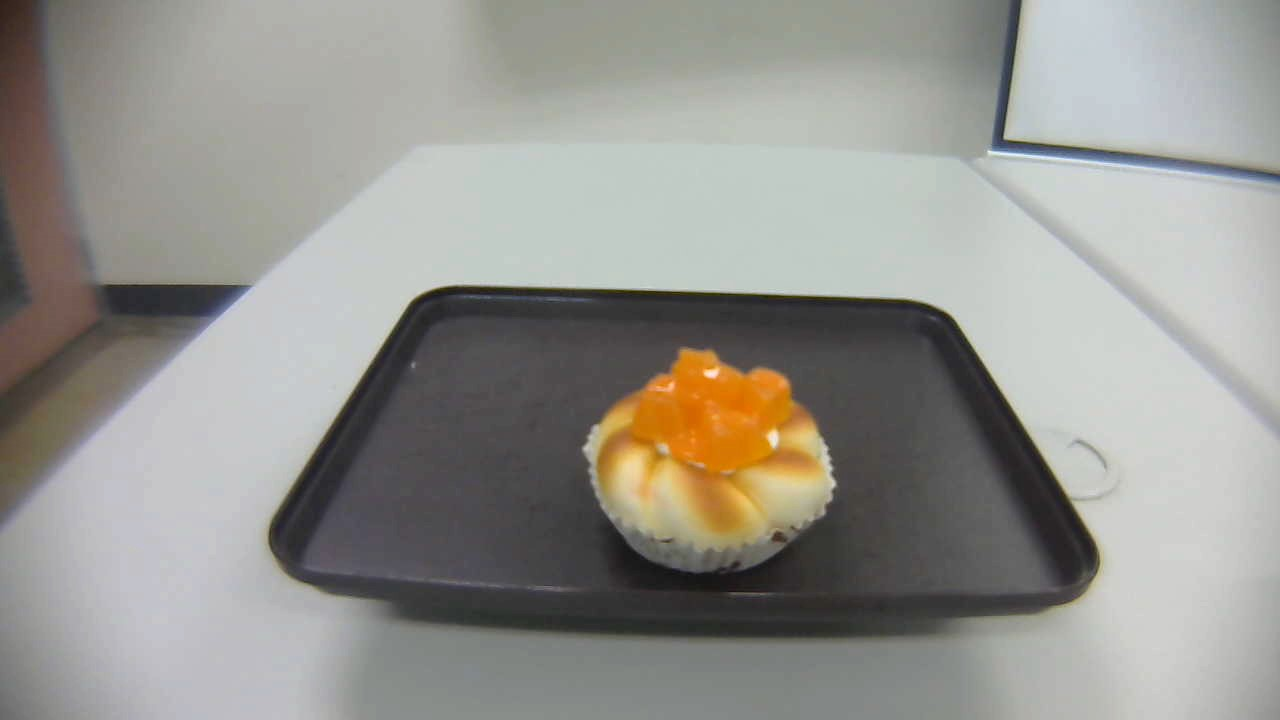mango tart: (582, 345, 839, 577)
